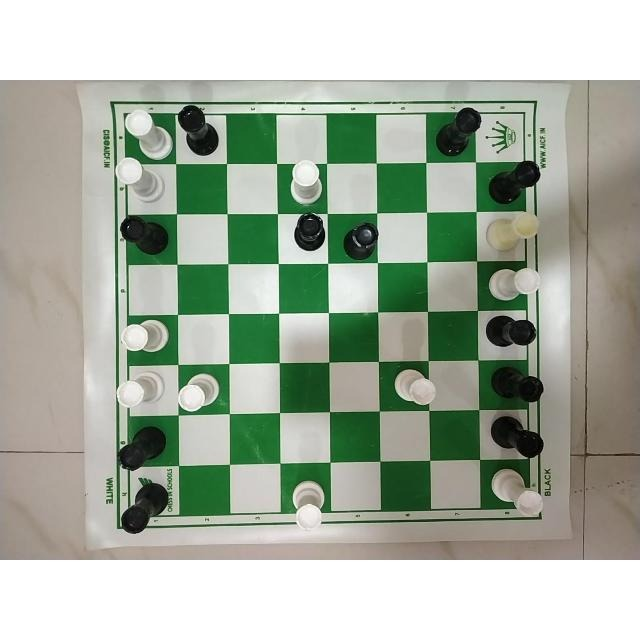black-rook: (117, 482, 177, 539), (489, 414, 548, 463), (487, 159, 542, 207), (491, 363, 551, 405), (115, 213, 171, 257), (434, 104, 481, 156), (177, 105, 222, 157), (115, 428, 169, 471), (485, 313, 539, 353), (341, 218, 380, 261), (290, 210, 327, 254)
white-rook: (488, 465, 546, 517), (120, 108, 173, 160), (111, 158, 166, 202), (485, 212, 541, 252), (391, 366, 439, 410), (113, 372, 167, 410), (483, 264, 541, 299), (288, 478, 324, 532), (176, 373, 225, 411), (119, 319, 175, 352), (286, 157, 324, 205)
